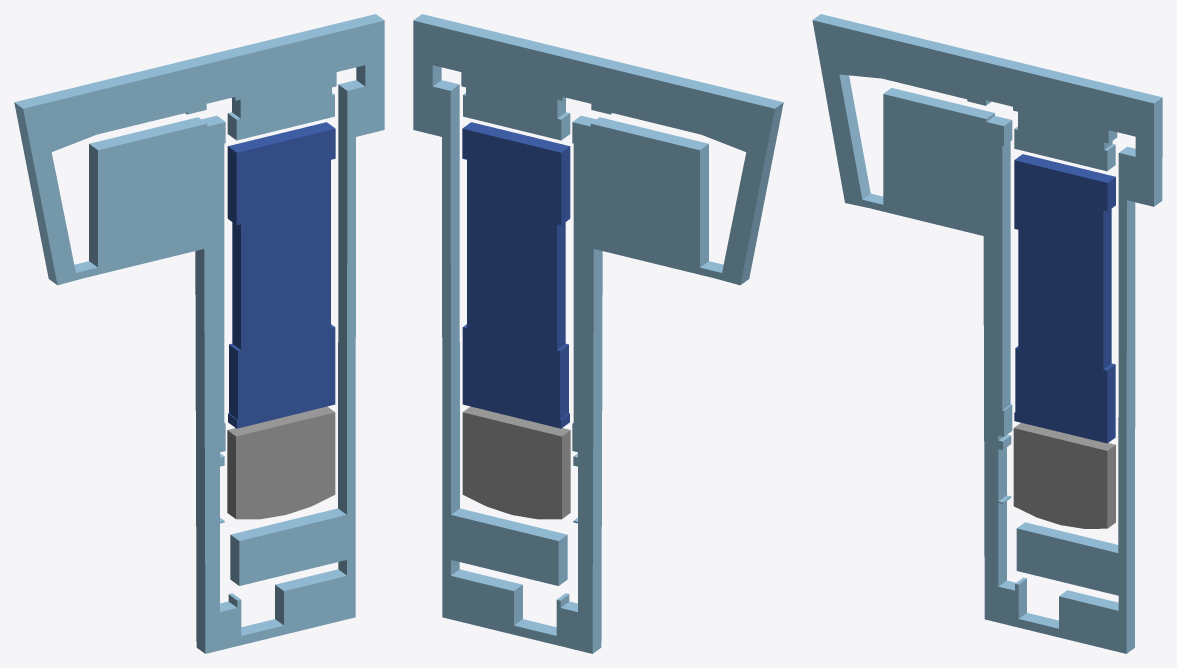
File: Golisano3.dae
3 renders of one model, left to right at view 1: azimuth 30°, elevation 25°; view 2: azimuth 150°, elevation 25°; view 3: azimuth 330°, elevation 25°, orthographic. The views are drawn at different scales.
Parts seen in each view (by area): view 1: Part 1, Part 3, Part 2; view 2: Part 1, Part 3, Part 2; view 3: Part 1, Part 3, Part 2.
Part boxes in pixels (box(x1,y1,x2,y2)): Part 1: box(14, 14, 384, 653); Part 3: box(227, 122, 335, 428); Part 2: box(227, 406, 335, 519); Part 1: box(413, 14, 783, 653); Part 3: box(462, 122, 570, 428); Part 2: box(462, 406, 570, 519); Part 1: box(812, 14, 1162, 653); Part 3: box(1014, 154, 1115, 443); Part 2: box(1013, 422, 1115, 528).
Size of the model in its own units: 0.0595 by 0.00254 by 0.0927.
